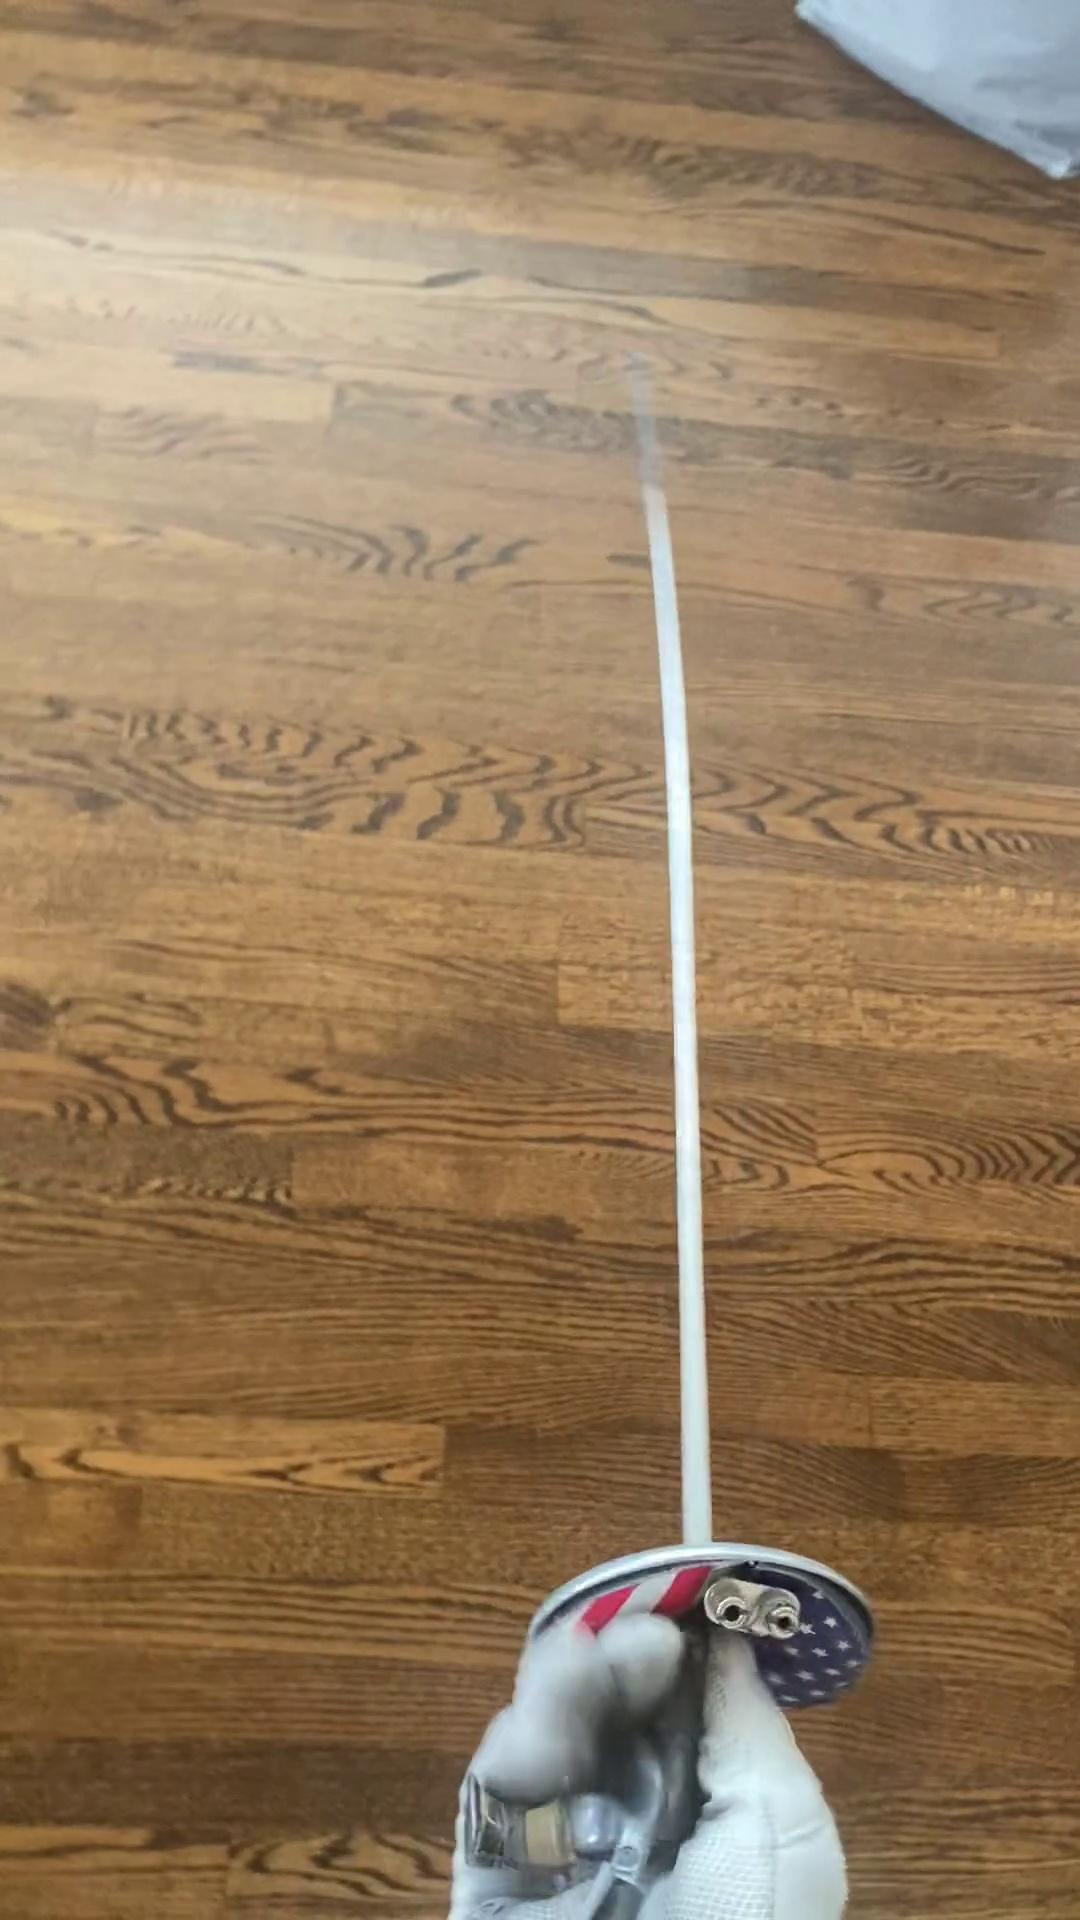blade-guard: (485, 1517, 914, 1793)
blade-tip: (571, 311, 722, 556)
fencing-blade: (462, 307, 938, 1908)
